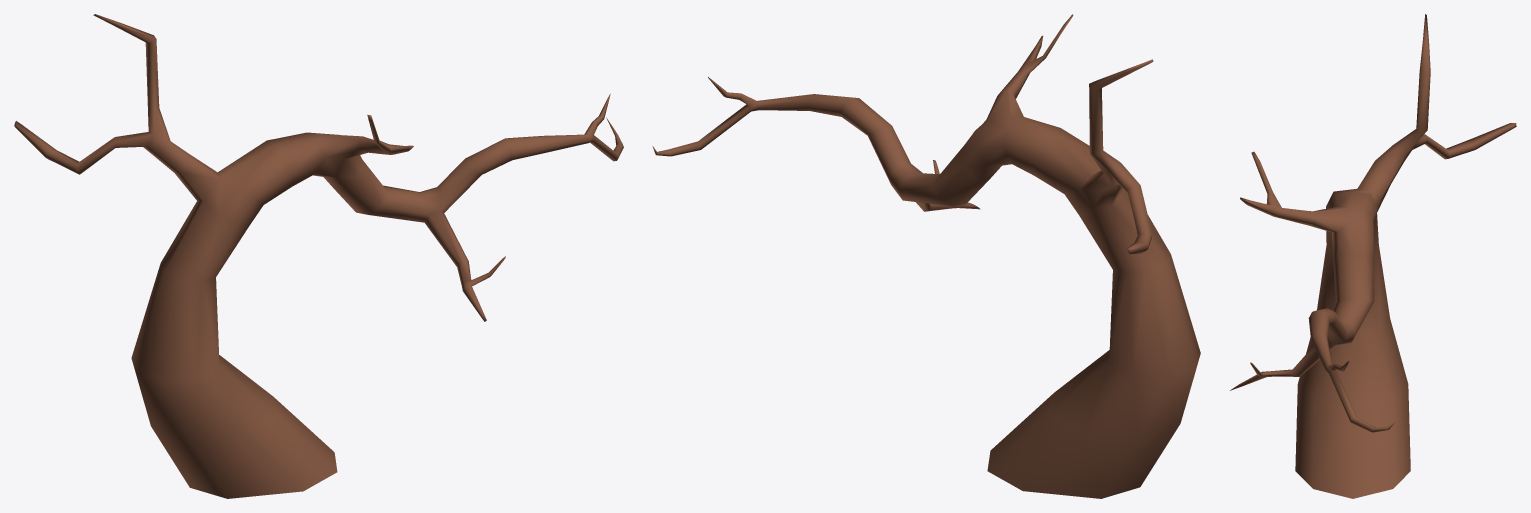
The model's file is Arvore_3.fbx.
3 views of the same model, side by side, from view 1: azimuth 30°, elevation 25°; view 2: azimuth 150°, elevation 25°; view 3: azimuth 270°, elevation 25° (orthographic). The views are drawn at different scales.
Visible parts, largest first — view 1: Arvore_3; view 2: Arvore_3; view 3: Arvore_3.
Boxes of the visible parts, <box> form: Arvore_3: <box>14,14,623,498</box>; Arvore_3: <box>652,14,1200,498</box>; Arvore_3: <box>1230,14,1516,498</box>.
Size of the model in its own units: 5.14 by 9.66 by 7.91.
